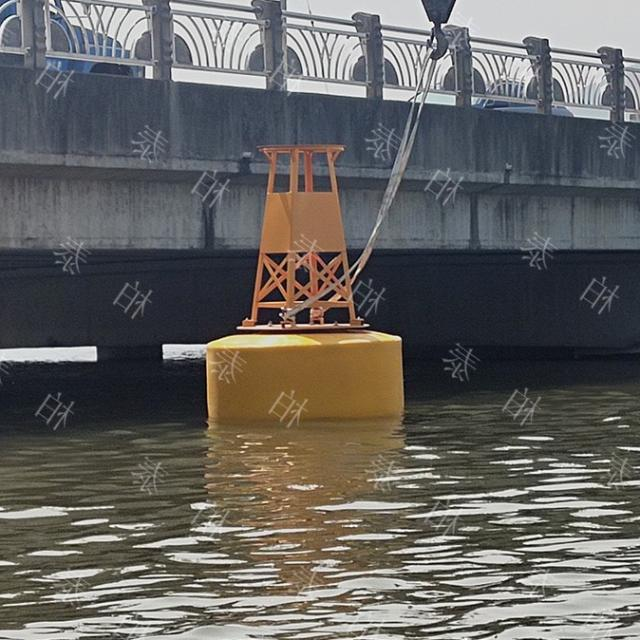buoy: (195, 133, 418, 421)
